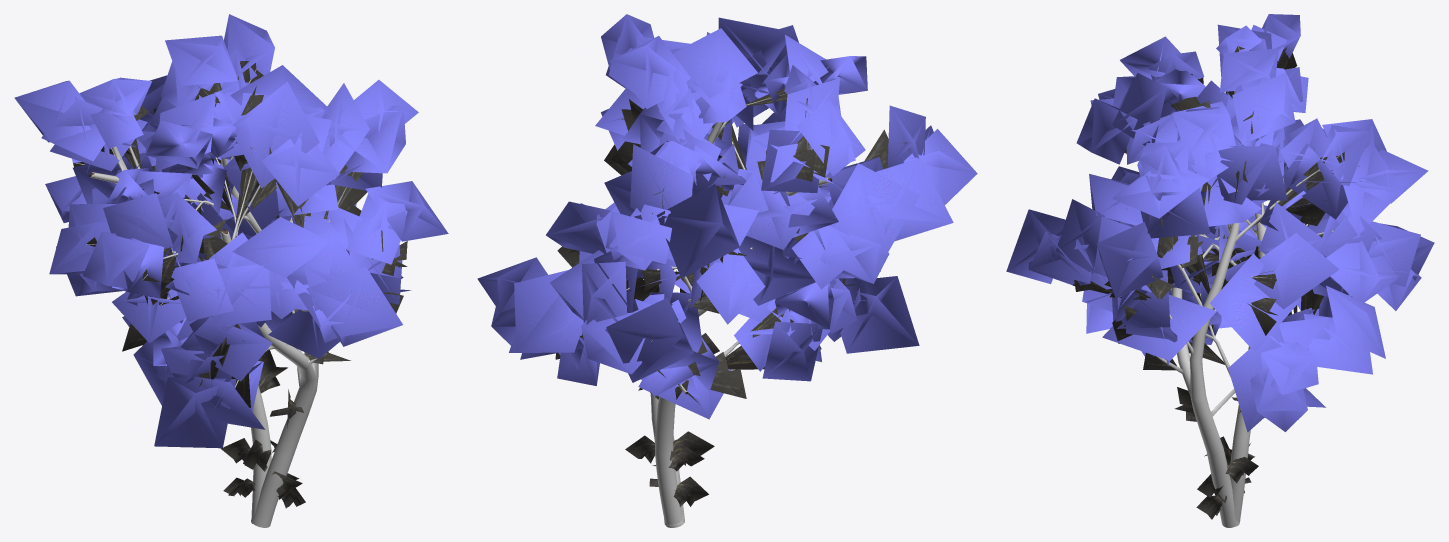
Rendered from Birch_2.fbx.
The picture shows the model from 3 angles, left to right: view 1: azimuth 30°, elevation 25°; view 2: azimuth 150°, elevation 25°; view 3: azimuth 270°, elevation 25°; orthographic projection. The views are drawn at different scales.
Visible parts, largest first — view 1: Birch_2; view 2: Birch_2; view 3: Birch_2.
Boxes of the visible parts, x1,y1,x2,y2 form: Birch_2: (14, 14, 448, 527); Birch_2: (477, 14, 977, 527); Birch_2: (1006, 14, 1434, 527).
Bounding box in the file's own units: 22.91 × 26.52 × 22.75.
